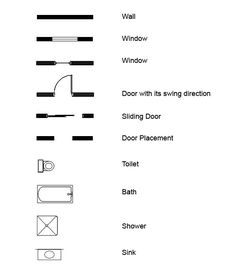wall: (34, 11, 98, 24)
window: (34, 56, 99, 73), (35, 32, 96, 46)
